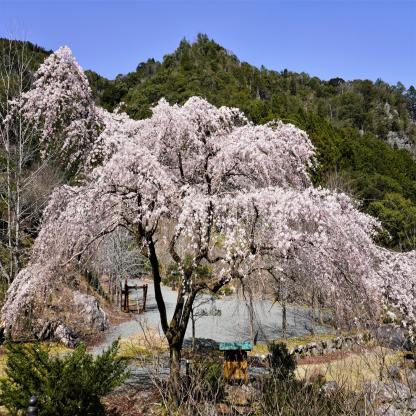ShidareZakura: (0, 45, 416, 346)
